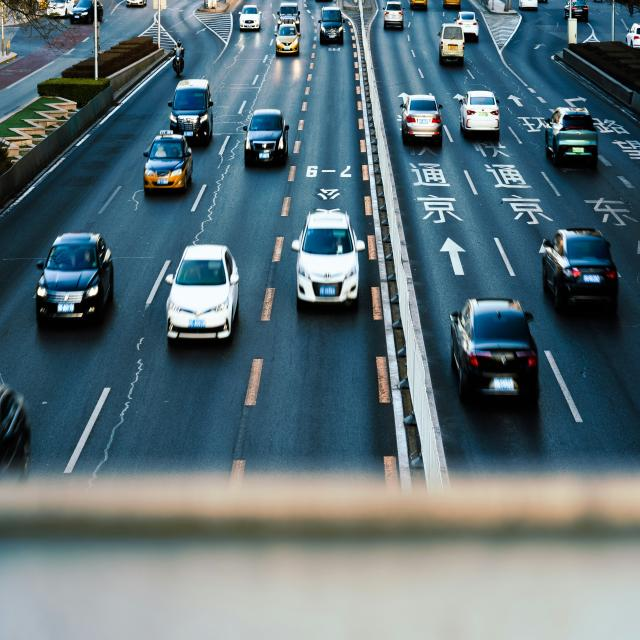Car: (449, 297, 539, 403), (292, 208, 366, 308), (165, 244, 239, 342), (36, 232, 114, 324), (540, 227, 619, 312), (545, 106, 598, 167), (142, 129, 192, 192), (168, 78, 214, 144), (243, 108, 289, 166), (398, 92, 443, 145), (459, 90, 500, 136), (438, 23, 465, 64), (318, 6, 344, 43), (274, 22, 301, 55), (69, 0, 103, 24), (454, 11, 479, 41), (276, 1, 300, 31), (239, 4, 264, 30), (383, 1, 404, 29), (564, 0, 588, 21), (46, 0, 75, 17), (625, 23, 640, 49), (518, 0, 538, 10), (410, 0, 428, 10), (126, 0, 147, 7), (442, 0, 460, 8)
Motorcycle: (172, 45, 185, 77)
